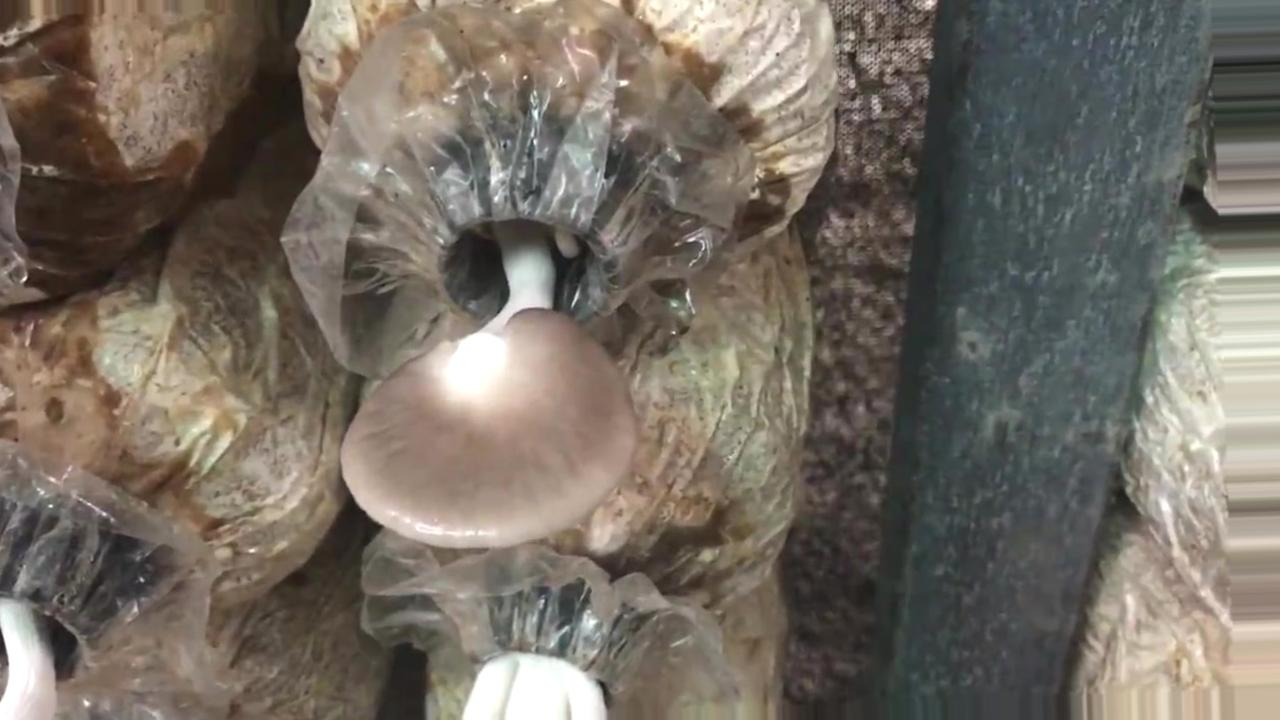nam: (334, 173, 643, 556)
